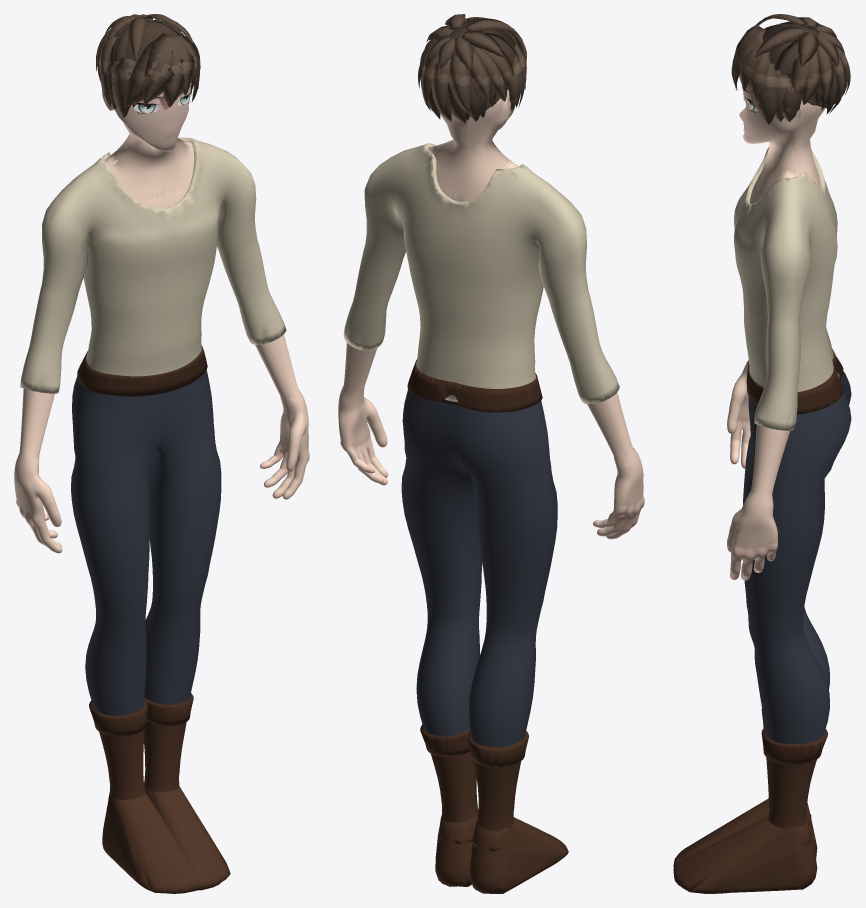
The model's file is adventurer-a028-pose.glb.
3 renders of one model, left to right at view 1: azimuth 30°, elevation 25°; view 2: azimuth 150°, elevation 25°; view 3: azimuth 270°, elevation 25°, orthographic. The views are drawn at different scales.
Parts seen in each view (by area): view 1: Enosh_Outfit_Trousers, Enosh_Outfit_Shirt, Enosh_Skin, Enosh_Outfit_BootFeet, Enosh_Hair_01, Enosh_Outfit_Boots, Enosh_Outfit_Belt, Enosh_Outfit_BootCuffs; view 2: Enosh_Outfit_Trousers, Enosh_Outfit_Shirt, Enosh_Skin, Enosh_Hair_01, Enosh_Outfit_BootFeet, Enosh_Outfit_Boots, Enosh_Outfit_Belt, Enosh_Outfit_BootCuffs; view 3: Enosh_Outfit_Trousers, Enosh_Outfit_Shirt, Enosh_Skin, Enosh_Hair_01, Enosh_Outfit_BootFeet, Enosh_Outfit_Boots, Enosh_Outfit_Belt, Enosh_Outfit_BootCuffs.
Boxes of the visible parts, x1=… form: Enosh_Outfit_Trousers: x1=71, y1=370, x2=221, y2=715; Enosh_Outfit_Shirt: x1=20, y1=137, x2=286, y2=393; Enosh_Skin: x1=14, y1=82, x2=309, y2=553; Enosh_Outfit_BootFeet: x1=102, y1=785, x2=230, y2=893; Enosh_Hair_01: x1=96, y1=14, x2=200, y2=118; Enosh_Outfit_Boots: x1=99, y1=721, x2=186, y2=814; Enosh_Outfit_Belt: x1=77, y1=345, x2=207, y2=396; Enosh_Outfit_BootCuffs: x1=89, y1=693, x2=193, y2=736; Enosh_Outfit_Trousers: x1=401, y1=389, x2=557, y2=747; Enosh_Outfit_Shirt: x1=343, y1=143, x2=619, y2=403; Enosh_Skin: x1=338, y1=90, x2=644, y2=539; Enosh_Hair_01: x1=418, y1=14, x2=526, y2=123; Enosh_Outfit_BootFeet: x1=435, y1=808, x2=568, y2=893; Enosh_Outfit_Boots: x1=431, y1=752, x2=521, y2=851; Enosh_Outfit_Belt: x1=407, y1=359, x2=542, y2=412; Enosh_Outfit_BootCuffs: x1=420, y1=724, x2=528, y2=767; Enosh_Outfit_Trousers: x1=743, y1=371, x2=851, y2=743; Enosh_Outfit_Shirt: x1=734, y1=147, x2=839, y2=430; Enosh_Skin: x1=727, y1=87, x2=825, y2=580; Enosh_Hair_01: x1=731, y1=14, x2=850, y2=124; Enosh_Outfit_BootFeet: x1=673, y1=798, x2=817, y2=893; Enosh_Outfit_Boots: x1=766, y1=757, x2=816, y2=848; Enosh_Outfit_Belt: x1=746, y1=349, x2=843, y2=414; Enosh_Outfit_BootCuffs: x1=761, y1=709, x2=827, y2=764.
Bounding box in the file's own units: 0.6364 × 1.76 × 0.3313.
27 materials, 14 textured.
